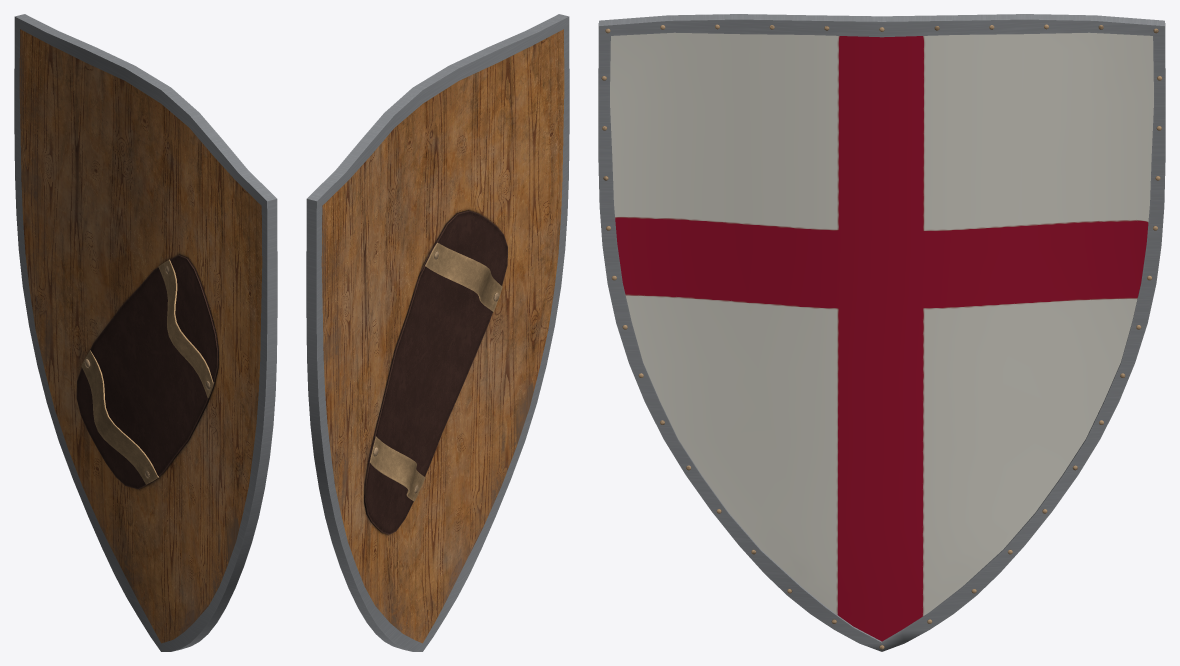
The model's file is escudoVariantes_desde_Blender.glb.
3 renders of one model, left to right at view 1: azimuth 30°, elevation 25°; view 2: azimuth 150°, elevation 25°; view 3: azimuth 270°, elevation 25°, orthographic. The views are drawn at different scales.
Visible parts, largest first — view 1: escudo, apoyo rectangulo, correa inferior, correa superior; view 2: escudo, apoyo rectangulo, correa superior, correa inferior; view 3: escudo, Rutacentral.
Boxes of the visible parts, x1,y1,x2,y2 form: escudo: (14,14,277,651); apoyo rectangulo: (76,254,218,489); correa inferior: (81,350,158,484); correa superior: (158,259,213,398); escudo: (306,14,569,651); apoyo rectangulo: (364,210,507,534); correa superior: (425,242,502,311); correa inferior: (369,436,425,501); escudo: (598,14,1165,651); Rutacentral: (601,24,1162,649).
Size of the model in its own units: 0.1742 by 2.64 by 2.15.
4 materials, 4 textured.
